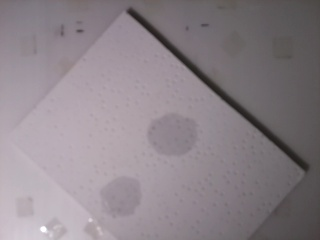Water_detected: (154, 124, 189, 152), (124, 179, 140, 202)
